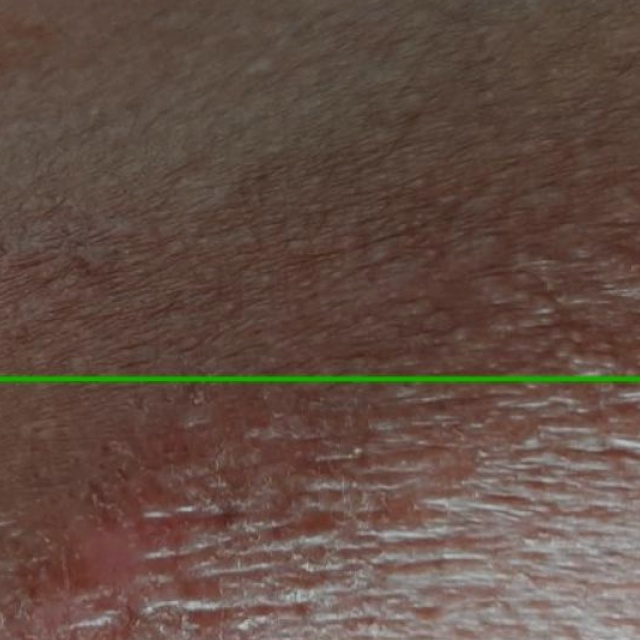Seborrheic Dermatitis: (0, 378, 639, 639)
